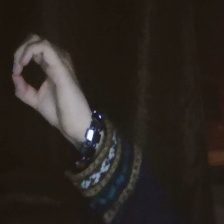O: (8, 26, 99, 128)
